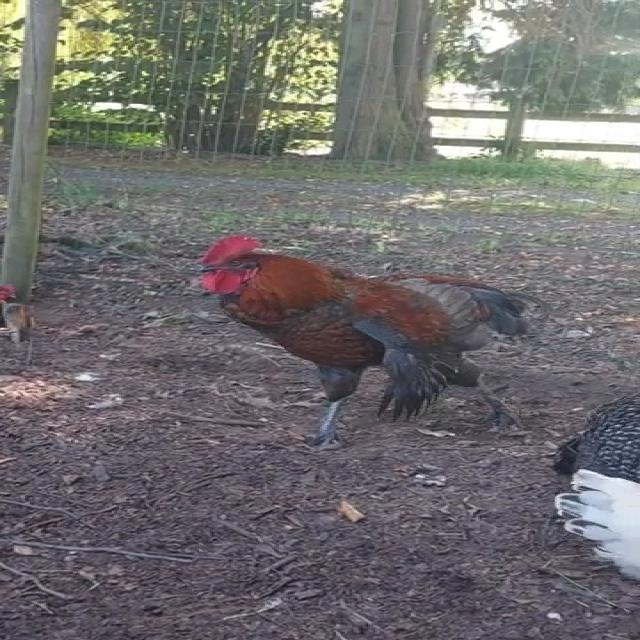wing and leg stretching: (188, 220, 548, 450)
